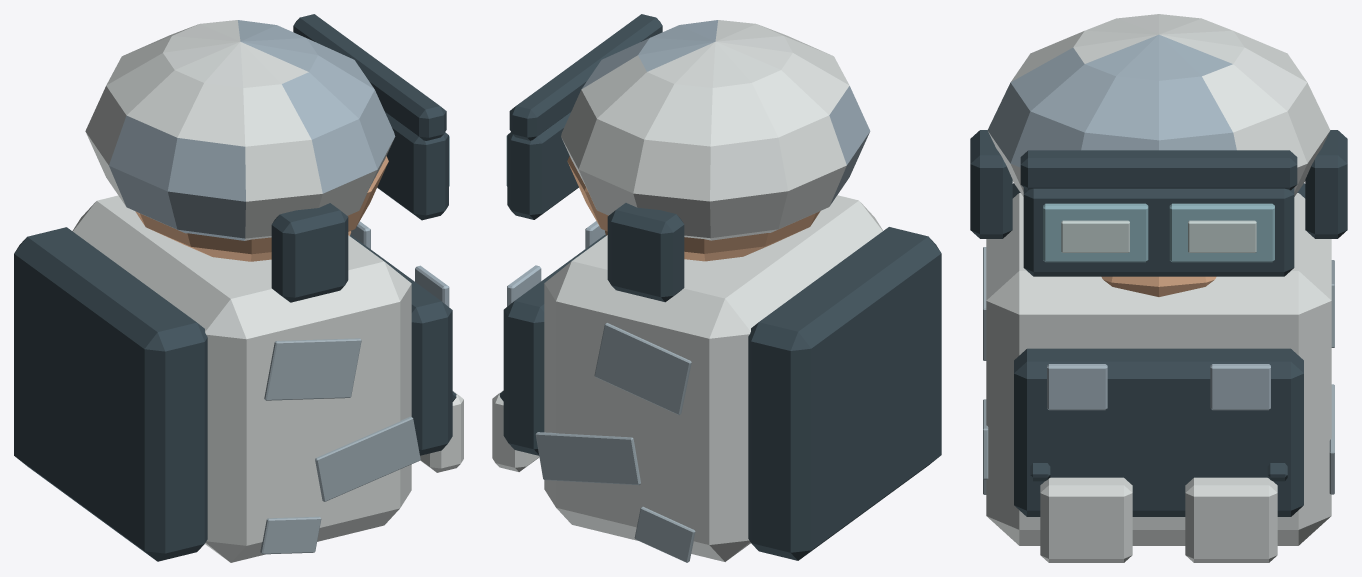
Rendered from steel-recon.alpine-scout.glb.
3 renders of one model, left to right at view 1: azimuth 30°, elevation 25°; view 2: azimuth 150°, elevation 25°; view 3: azimuth 270°, elevation 25°, orthographic. The views are drawn at different scales.
Visible parts, largest first — view 1: steel-recon_alpine-scout__main__torso_finish_3f5059_0.03, steel-recon_alpine-scout__main__torso_finish_d8dddc_0.03, steel-recon_alpine-scout__main__head_finish_d8dddc_0.03|fini, steel-recon_alpine-scout__main__head_finish_3f5059_0.03, steel-recon_alpine-scout__main__torso_finish_a0afb7_0.03, steel-recon_alpine-scout__main__head_finish_e2b28e_0.03, steel-recon_alpine-scout__main__torso_finish_a7b8c3_0.03; view 2: steel-recon_alpine-scout__main__torso_finish_3f5059_0.03, steel-recon_alpine-scout__main__torso_finish_d8dddc_0.03, steel-recon_alpine-scout__main__head_finish_d8dddc_0.03|fini, steel-recon_alpine-scout__main__head_finish_3f5059_0.03, steel-recon_alpine-scout__main__torso_finish_a0afb7_0.03, steel-recon_alpine-scout__main__head_finish_e2b28e_0.03, steel-recon_alpine-scout__main__torso_finish_a7b8c3_0.03; view 3: steel-recon_alpine-scout__main__torso_finish_d8dddc_0.03, steel-recon_alpine-scout__main__head_finish_d8dddc_0.03|fini, steel-recon_alpine-scout__main__torso_finish_3f5059_0.03, steel-recon_alpine-scout__main__head_finish_3f5059_0.03, steel-recon_alpine-scout__main__head_finish_91b6c0_0.03, steel-recon_alpine-scout__main__torso_finish_a7b8c3_0.03, steel-recon_alpine-scout__main__head_finish_cbd9d8_0.03, steel-recon_alpine-scout__main__torso_finish_a0afb7_0.03, steel-recon_alpine-scout__main__head_finish_e2b28e_0.03.
Part boxes in pixels (box(x1,y1,x2,y2)): steel-recon_alpine-scout__main__torso_finish_3f5059_0.03: box(14, 227, 456, 561); steel-recon_alpine-scout__main__torso_finish_d8dddc_0.03: box(72, 195, 463, 562); steel-recon_alpine-scout__main__head_finish_d8dddc_0.03|fini: box(85, 20, 395, 240); steel-recon_alpine-scout__main__head_finish_3f5059_0.03: box(271, 14, 448, 302); steel-recon_alpine-scout__main__torso_finish_a0afb7_0.03: box(260, 338, 420, 554); steel-recon_alpine-scout__main__head_finish_e2b28e_0.03: box(135, 156, 388, 261); steel-recon_alpine-scout__main__torso_finish_a7b8c3_0.03: box(350, 221, 449, 306); steel-recon_alpine-scout__main__torso_finish_3f5059_0.03: box(499, 227, 941, 560); steel-recon_alpine-scout__main__torso_finish_d8dddc_0.03: box(492, 195, 882, 561); steel-recon_alpine-scout__main__head_finish_d8dddc_0.03|fini: box(561, 20, 870, 240); steel-recon_alpine-scout__main__head_finish_3f5059_0.03: box(507, 14, 684, 302); steel-recon_alpine-scout__main__torso_finish_a0afb7_0.03: box(535, 323, 695, 562); steel-recon_alpine-scout__main__head_finish_e2b28e_0.03: box(567, 156, 820, 261); steel-recon_alpine-scout__main__torso_finish_a7b8c3_0.03: box(507, 221, 605, 306); steel-recon_alpine-scout__main__torso_finish_d8dddc_0.03: box(986, 193, 1331, 562); steel-recon_alpine-scout__main__head_finish_d8dddc_0.03|fini: box(987, 14, 1330, 196); steel-recon_alpine-scout__main__torso_finish_3f5059_0.03: box(1012, 183, 1305, 516); steel-recon_alpine-scout__main__head_finish_3f5059_0.03: box(970, 130, 1347, 276); steel-recon_alpine-scout__main__head_finish_91b6c0_0.03: box(1043, 203, 1274, 262); steel-recon_alpine-scout__main__torso_finish_a7b8c3_0.03: box(1047, 364, 1270, 410); steel-recon_alpine-scout__main__head_finish_cbd9d8_0.03: box(1061, 220, 1256, 252); steel-recon_alpine-scout__main__torso_finish_a0afb7_0.03: box(983, 247, 1334, 494); steel-recon_alpine-scout__main__head_finish_e2b28e_0.03: box(1101, 276, 1216, 296).
Size of the model in its own units: 30.25 by 39.5 by 28.6.
